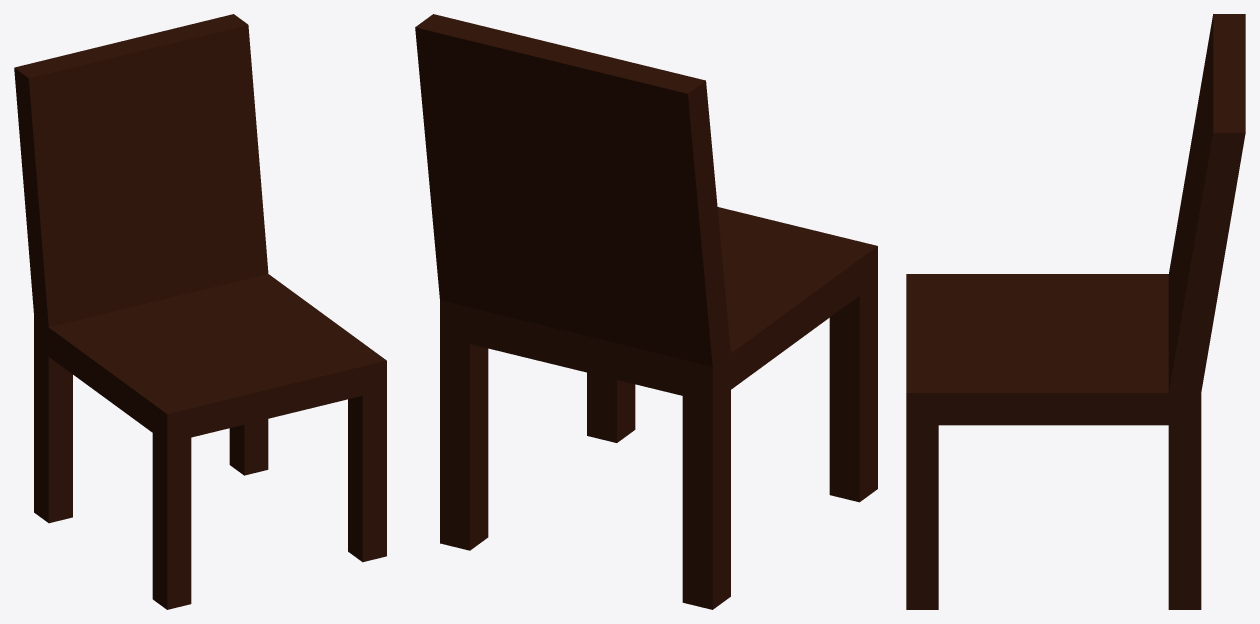
The model's file is woodchair_nice_1.FBX.
3 views of the same model, side by side, from view 1: azimuth 30°, elevation 25°; view 2: azimuth 150°, elevation 25°; view 3: azimuth 270°, elevation 25° (orthographic). The views are drawn at different scales.
Parts seen in each view (by area): view 1: chair_good_1; view 2: chair_good_1; view 3: chair_good_1.
Part boxes in pixels (x1,y1,x2,y2): chair_good_1: [14, 14, 386, 609]; chair_good_1: [415, 14, 877, 609]; chair_good_1: [906, 14, 1245, 609].
Bounding box in the file's own units: 22.68 × 27.37 × 42.46.
